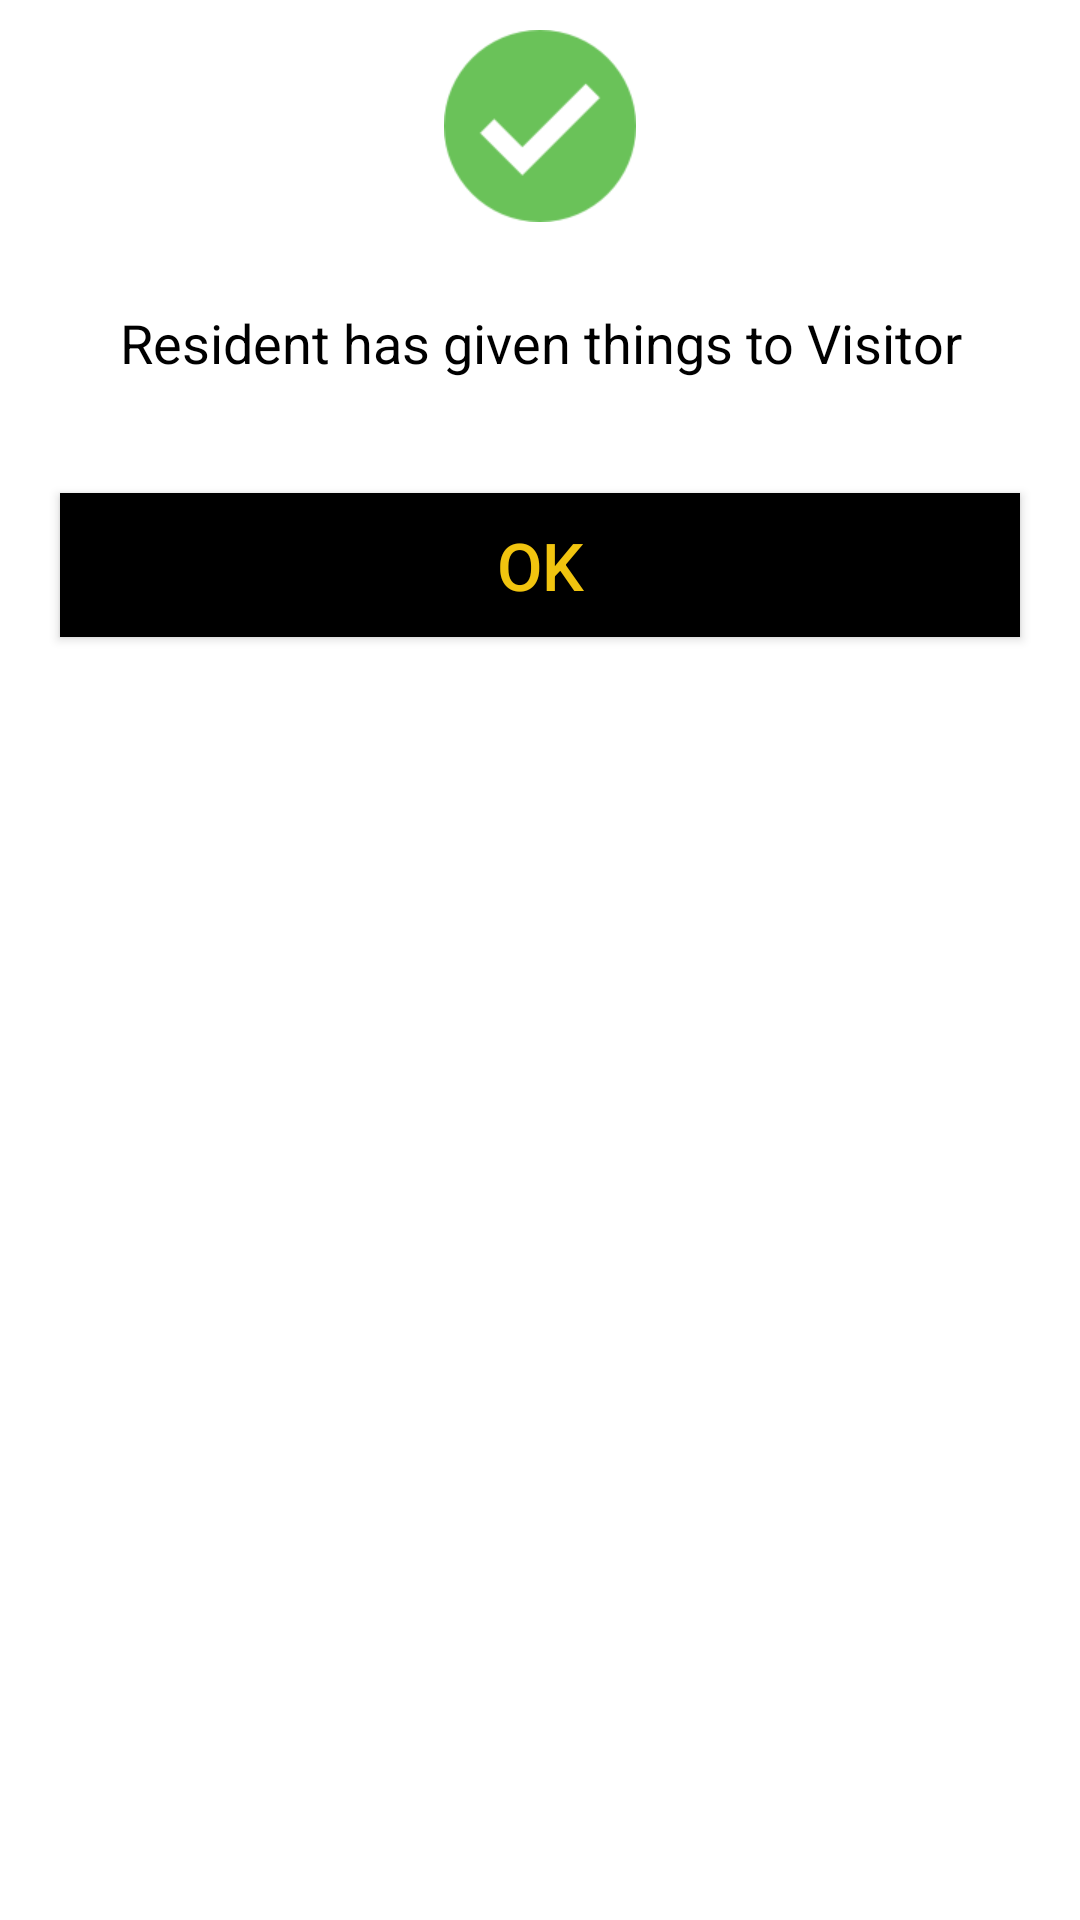

Screen size 1080px×1920px. Icon name, then its center in pixels as point (x, y):
Image to indicate for successful visitor validation: point (540, 126)
